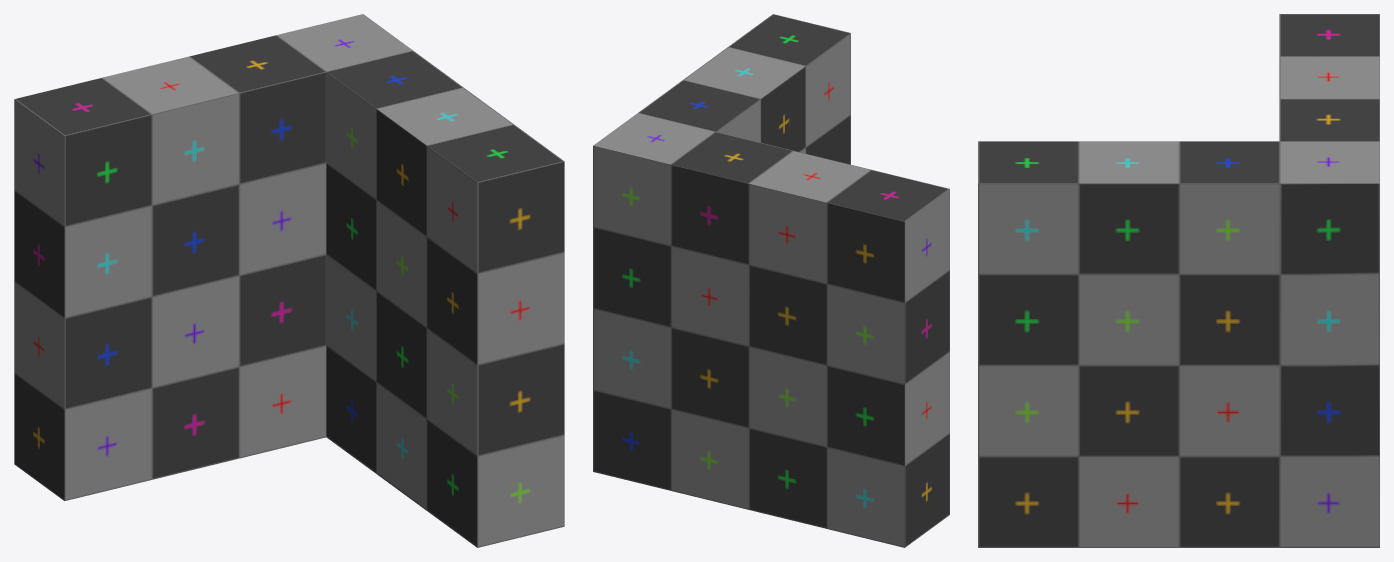
The model's file is Modular Wall Corner.glb.
3 views of the same model, side by side, from view 1: azimuth 30°, elevation 25°; view 2: azimuth 150°, elevation 25°; view 3: azimuth 270°, elevation 25° (orthographic). The views are drawn at different scales.
Parts seen in each view (by area): view 1: Modular Wall Corner; view 2: Modular Wall Corner; view 3: Modular Wall Corner.
Boxes of the visible parts, <box> form: Modular Wall Corner: <box>14,14,564,547</box>; Modular Wall Corner: <box>593,14,949,547</box>; Modular Wall Corner: <box>978,14,1379,547</box>.
Bounding box in the file's own units: 4 × 4 × 4.
1 material, 1 textured.
